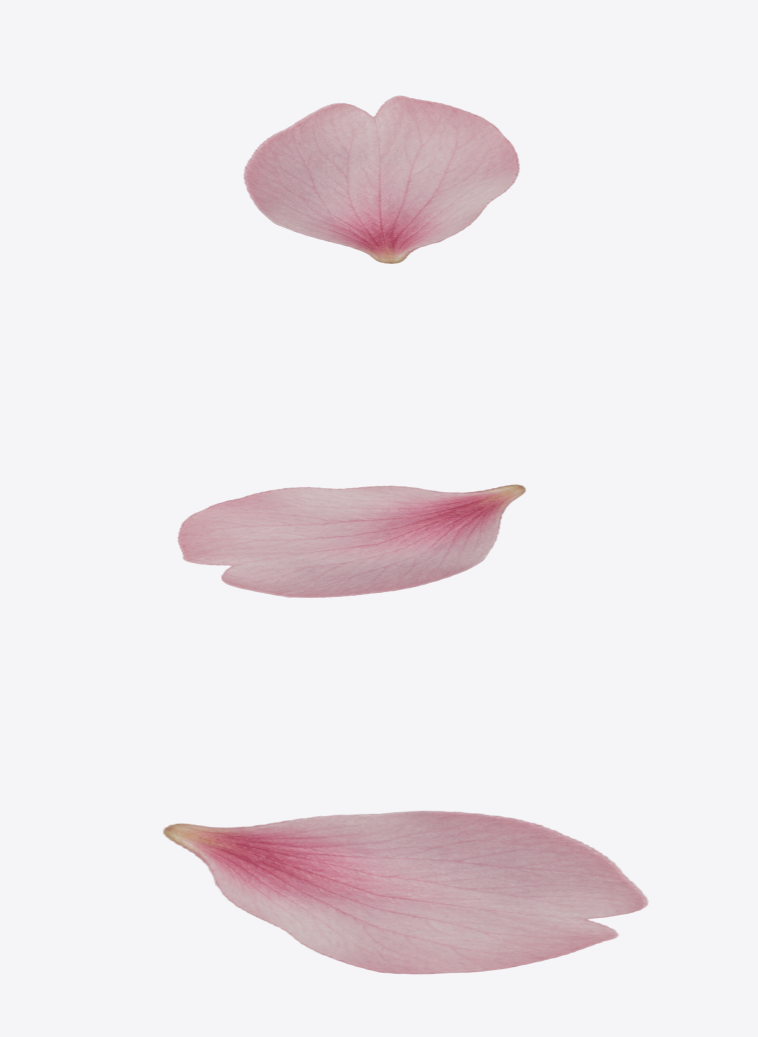
File: sakura_petal.glb
The picture shows the model from 3 angles, top to bottom: view 1: azimuth 30°, elevation 25°; view 2: azimuth 150°, elevation 25°; view 3: azimuth 270°, elevation 25°; orthographic projection. The views are drawn at different scales.
Parts seen in each view (by area): view 1: GEO-Curled notched sakura petal; view 2: GEO-Curled notched sakura petal; view 3: GEO-Curled notched sakura petal.
Part boxes in pixels (box(x1,y1,x2,y2)): GEO-Curled notched sakura petal: box(243, 95, 519, 263); GEO-Curled notched sakura petal: box(177, 484, 525, 597); GEO-Curled notched sakura petal: box(163, 811, 648, 974).
Size of the model in its own units: 0.145 by 0.0116 by 0.145.
1 material, 1 textured.
